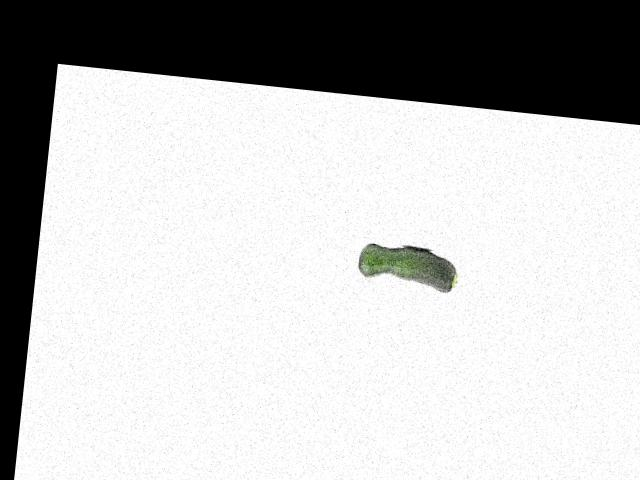cucumber: (356, 241, 460, 293)
